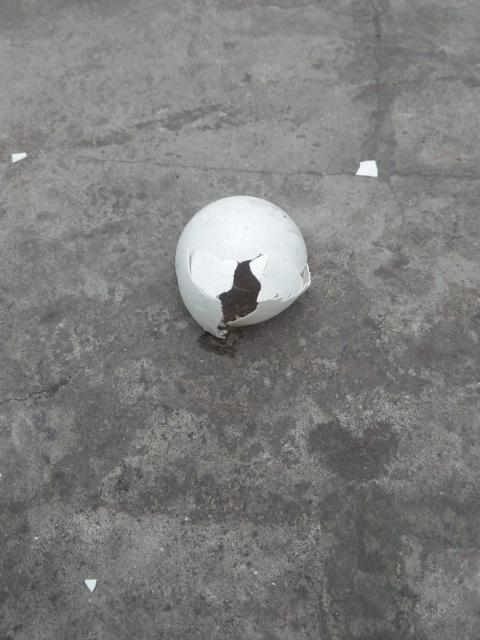Roto: (174, 194, 312, 340)
